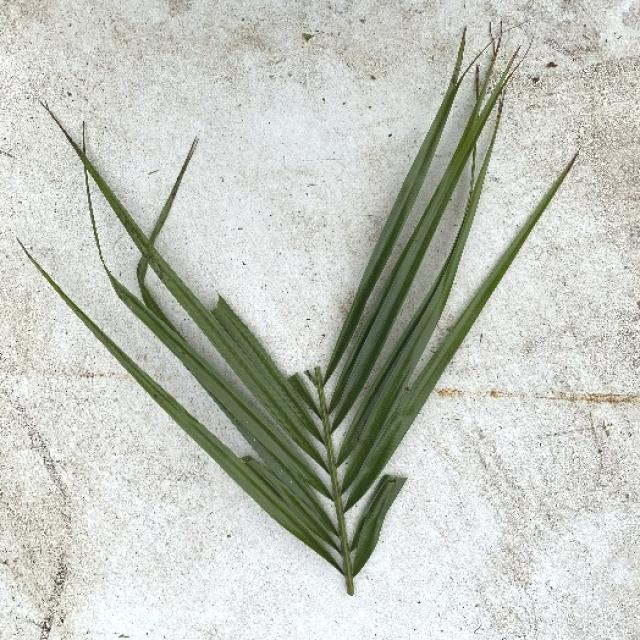organic: (34, 97, 546, 610)
